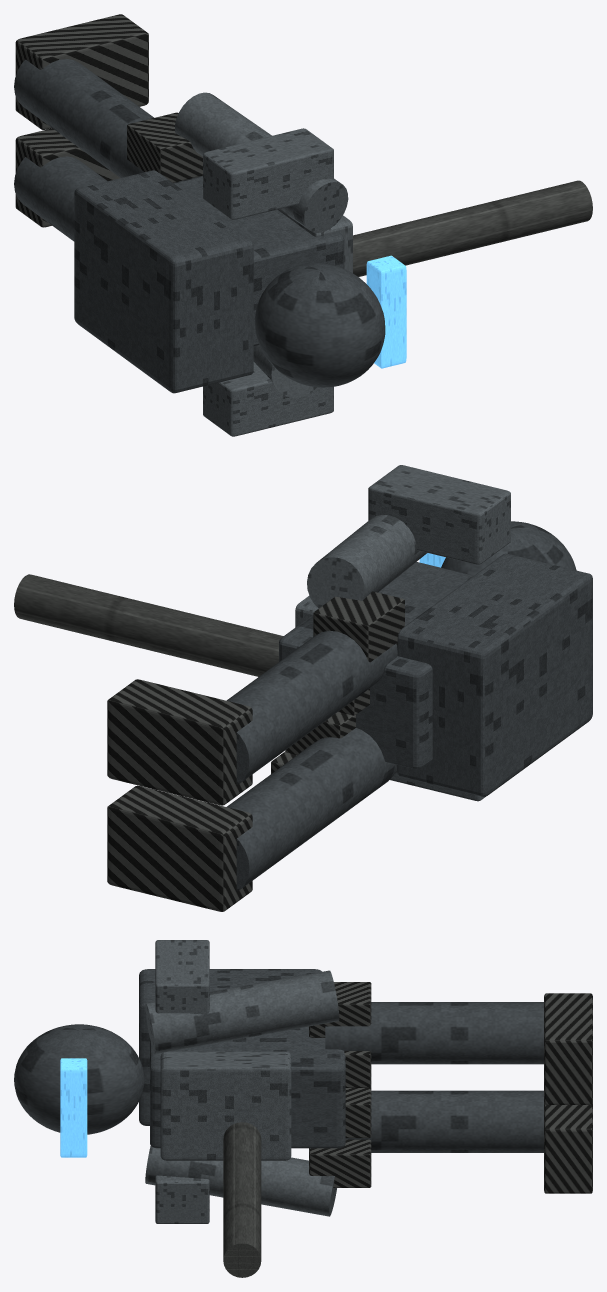
File: s-u03-specter-sniper-lod0.glb
The picture shows the model from 3 angles, top to bottom: view 1: azimuth 30°, elevation 25°; view 2: azimuth 150°, elevation 25°; view 3: azimuth 270°, elevation 25°; orthographic projection. The views are drawn at different scales.
Visible parts, largest first — view 1: soldier_0_backpack, soldier_0_helmet, soldier_0_sniper, soldier_0_leg_1, soldier_0_shoulder_1, soldier_0_boot_1, soldier_0_arm_1, soldier_0_torso, soldier_0_shoulder_-1, soldier_0_leg_-1, soldier_0_pouch_3, soldier_0_visor (+3 smaller); view 2: soldier_0_backpack, soldier_0_boot_-1, soldier_0_boot_1, soldier_0_leg_-1, soldier_0_sniper, soldier_0_leg_1, soldier_0_torso, soldier_0_shoulder_1, soldier_0_arm_1, soldier_0_pouch_3, soldier_0_helmet, soldier_0_pouch_1 (+1 smaller); view 3: soldier_0_chest, soldier_0_leg_1, soldier_0_leg_-1, soldier_0_helmet, soldier_0_arm_1, soldier_0_torso, soldier_0_sniper, soldier_0_boot_1, soldier_0_arm_-1, soldier_0_boot_-1, soldier_0_shoulder_1, soldier_0_backpack (+6 smaller).
Boxes of the visible parts, left/top/right/bottom form: soldier_0_backpack: left=74, top=170, right=253, bottom=393; soldier_0_helmet: left=255, top=263, right=385, bottom=387; soldier_0_sniper: left=353, top=180, right=592, bottom=276; soldier_0_leg_1: left=14, top=59, right=202, bottom=183; soldier_0_shoulder_1: left=203, top=128, right=333, bottom=219; soldier_0_boot_1: left=15, top=14, right=148, bottom=129; soldier_0_arm_1: left=175, top=92, right=348, bottom=232; soldier_0_torso: left=174, top=176, right=344, bottom=346; soldier_0_shoulder_-1: left=203, top=362, right=333, bottom=436; soldier_0_leg_-1: left=14, top=156, right=107, bottom=241; soldier_0_pouch_3: left=127, top=112, right=202, bottom=182; soldier_0_visor: left=366, top=255, right=406, bottom=368; soldier_0_backpack: left=397, top=553, right=592, bottom=796; soldier_0_boot_-1: left=107, top=785, right=252, bottom=911; soldier_0_boot_1: left=107, top=679, right=252, bottom=805; soldier_0_leg_-1: left=227, top=728, right=396, bottom=891; soldier_0_sniper: left=14, top=574, right=283, bottom=676; soldier_0_leg_1: left=227, top=630, right=397, bottom=784; soldier_0_torso: left=279, top=562, right=473, bottom=769; soldier_0_shoulder_1: left=368, top=465, right=510, bottom=564; soldier_0_arm_1: left=307, top=514, right=427, bottom=608; soldier_0_pouch_3: left=313, top=591, right=404, bottom=662; soldier_0_helmet: left=441, top=521, right=576, bottom=575; soldier_0_pouch_1: left=285, top=712, right=355, bottom=754; soldier_0_chest: left=160, top=1051, right=291, bottom=1160; soldier_0_leg_1: left=325, top=1002, right=543, bottom=1064; soldier_0_leg_-1: left=345, top=1090, right=543, bottom=1152; soldier_0_helmet: left=14, top=1024, right=144, bottom=1134; soldier_0_arm_1: left=145, top=970, right=339, bottom=1053; soldier_0_torso: left=150, top=1026, right=345, bottom=1148; soldier_0_sniper: left=223, top=1122, right=261, bottom=1277; soldier_0_boot_1: left=544, top=993, right=592, bottom=1104; soldier_0_arm_-1: left=145, top=1146, right=336, bottom=1216; soldier_0_boot_-1: left=544, top=1102, right=592, bottom=1193; soldier_0_shoulder_1: left=155, top=940, right=209, bottom=1014; soldier_0_backpack: left=139, top=969, right=321, bottom=1125.
Size of what is drawn, in the model's own units: 1.73 by 0.937 by 2.04.
5 materials, 5 textured.
